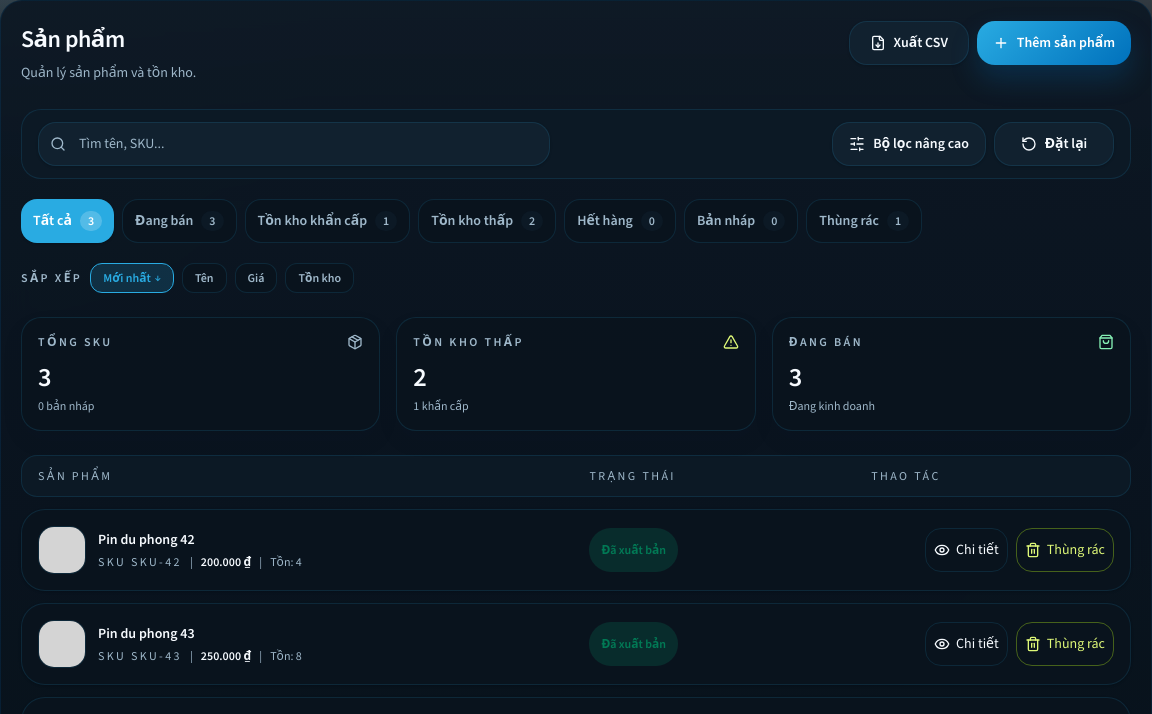
Test: ProductsPage › Quick Add › hiển thị lỗi inline khi SKU trùng (409), không điều hướng
The width and height of the screenshot is (1152, 714).
Step 1. Click the button "Thêm sản phẩm" → x=1054, y=43, box [977, 21, 1131, 65]
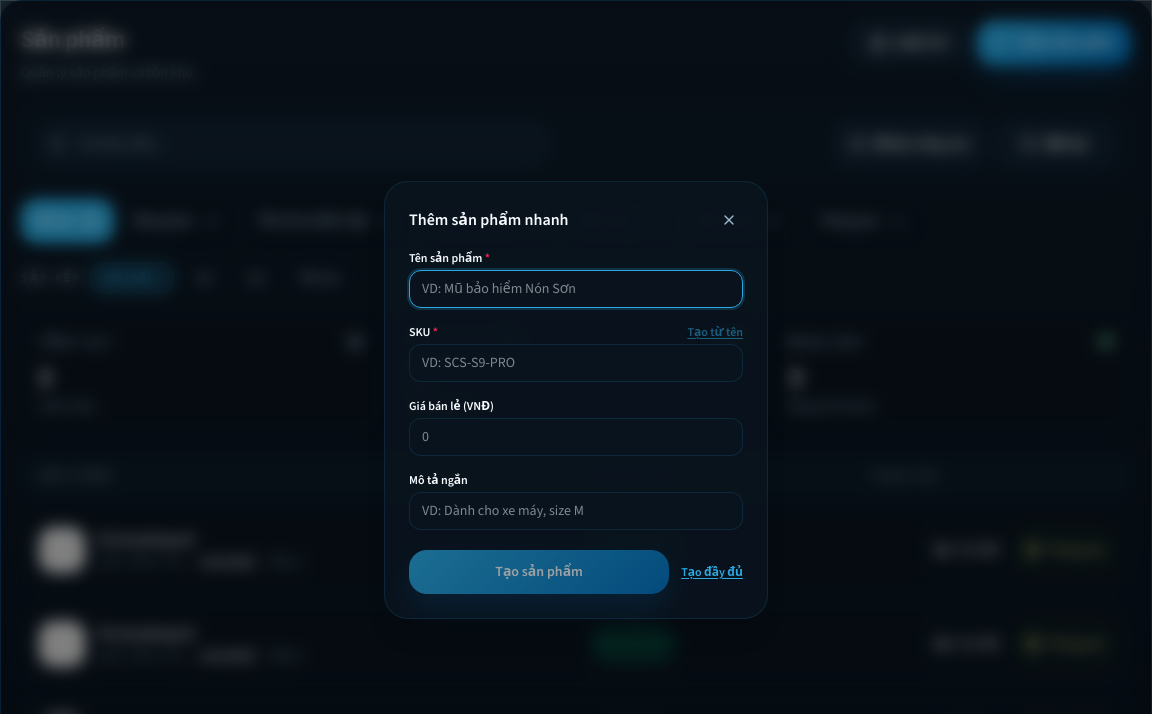
Step 2. Type "SCS S9 Pro" into the field labelled "Tên sản phẩm *" → x=576, y=289, box [409, 270, 743, 308]
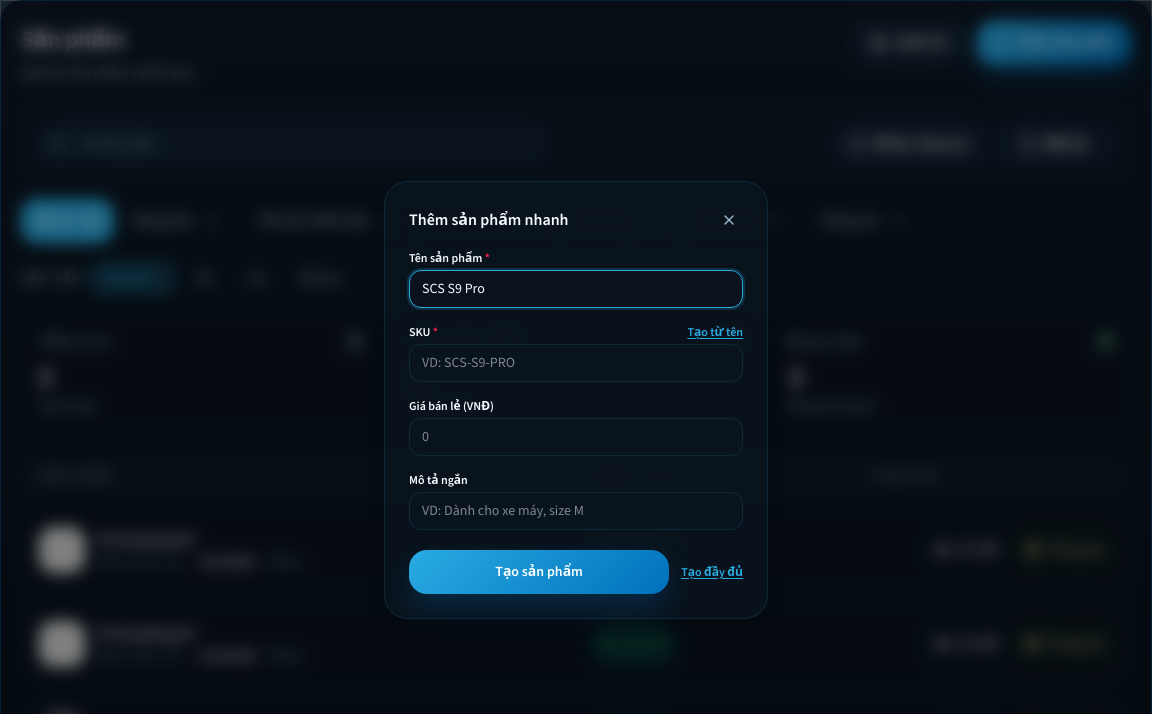
Step 3. Type "SKU-42" into the field labelled "SKU *" → x=576, y=363, box [409, 344, 743, 382]
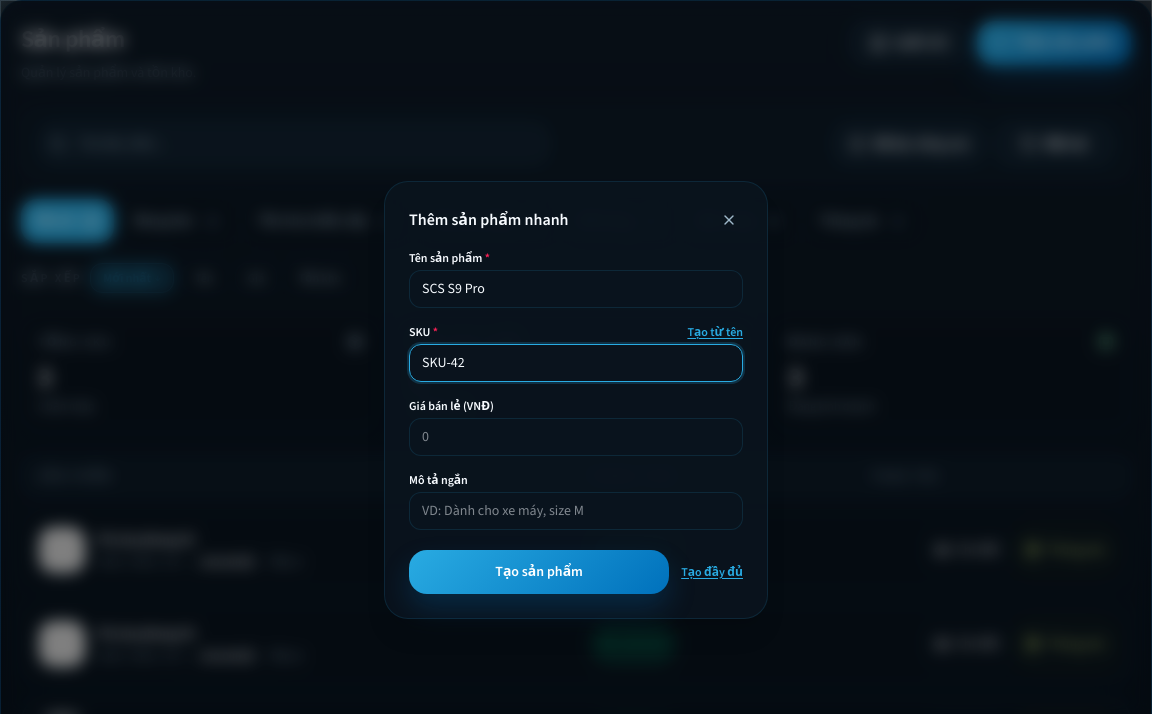
Step 4. Click the button "Tạo sản phẩm" → x=539, y=572, box [409, 550, 669, 594]
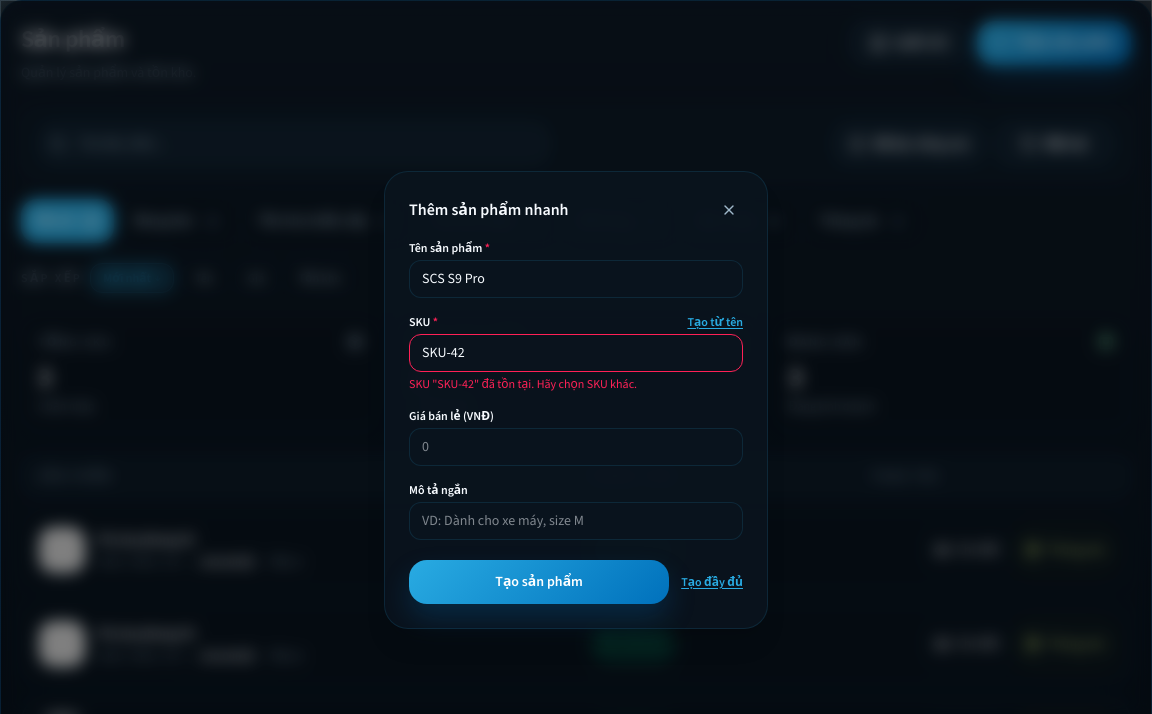
Expected: the text "SKU \"SKU-42\" đã tồn tại. Hãy chọn SKU khác." is shown, [409, 376, 637, 392]
